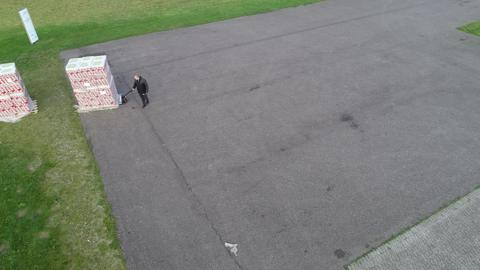RockwoolPallet: (68, 55, 124, 107)
